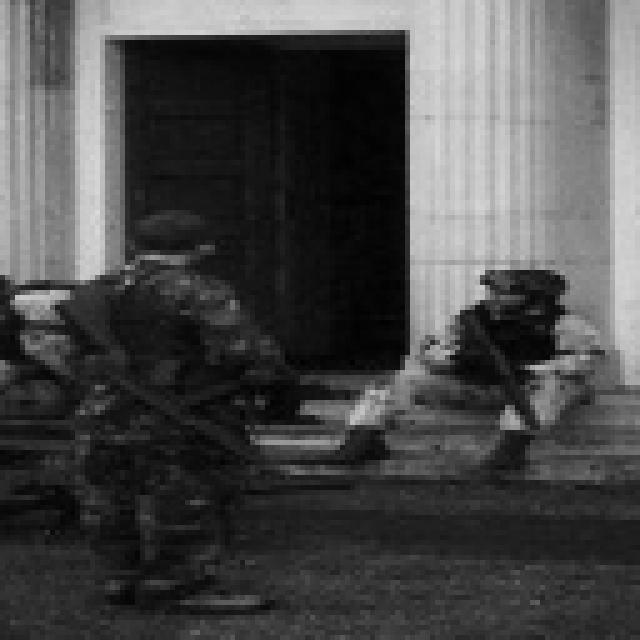Rifle: (90, 338, 300, 518), (452, 309, 551, 458)
